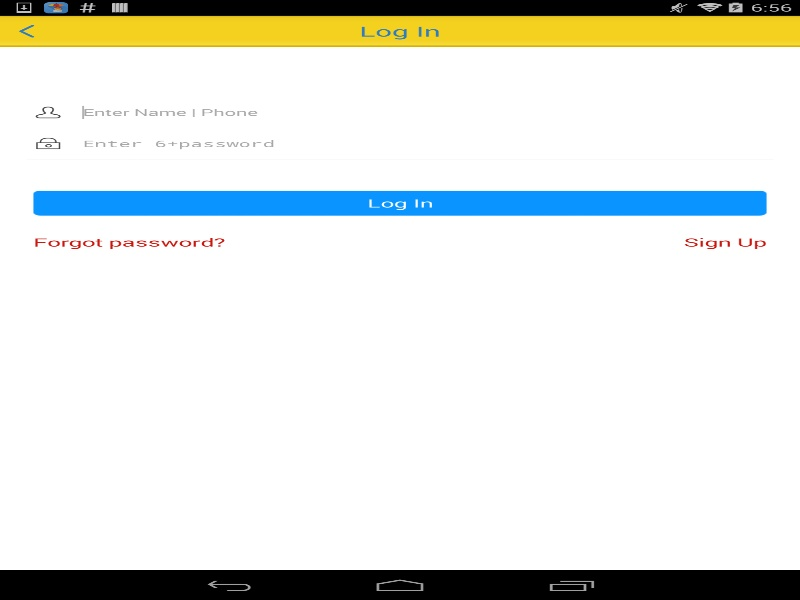Input: (69, 96, 773, 127), (69, 128, 773, 159)
